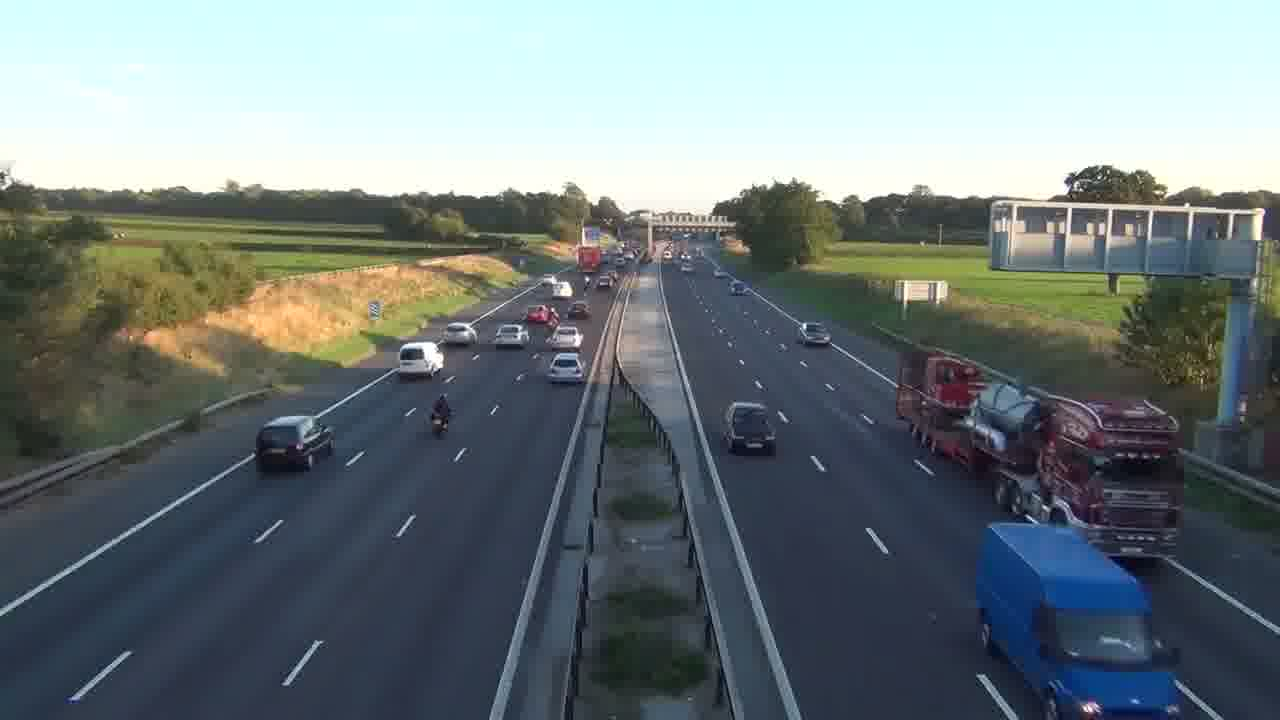car: (721, 400, 777, 456), (545, 351, 585, 385), (544, 323, 583, 351), (796, 321, 832, 347), (494, 323, 530, 349), (445, 321, 479, 344), (730, 279, 751, 295)
truck: (974, 518, 1184, 718), (990, 389, 1185, 564), (895, 346, 987, 463), (255, 413, 336, 472), (397, 340, 444, 377)
